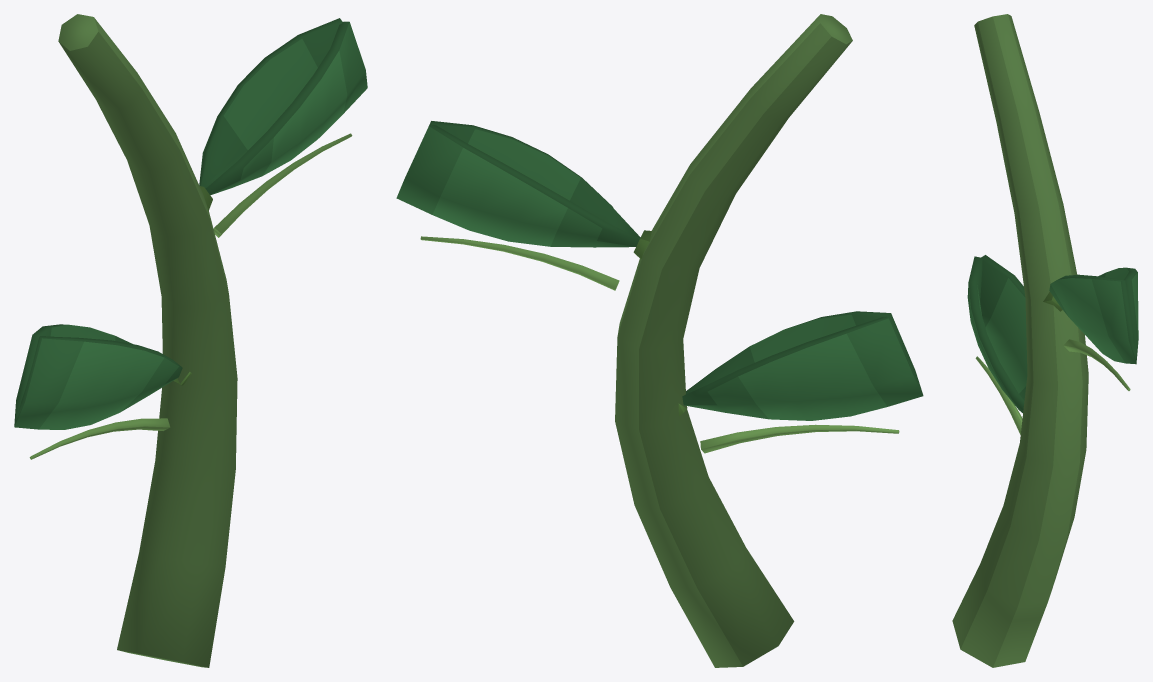
Rendered from garden-zinnia-sprout-stem-3.glb.
3 renders of one model, left to right at view 1: azimuth 30°, elevation 25°; view 2: azimuth 150°, elevation 25°; view 3: azimuth 270°, elevation 25°, orthographic. The views are drawn at different scales.
Parts seen in each view (by area): view 1: zinnia-sprout-stem-3; view 2: zinnia-sprout-stem-3; view 3: zinnia-sprout-stem-3.
Boxes of the visible parts, x1,y1,x2,y2 form: zinnia-sprout-stem-3: (14,14,367,667); zinnia-sprout-stem-3: (396,14,923,667); zinnia-sprout-stem-3: (952,14,1138,667).
Bounding box in the file's own units: 0.0747 × 0.1085 × 0.0302.
